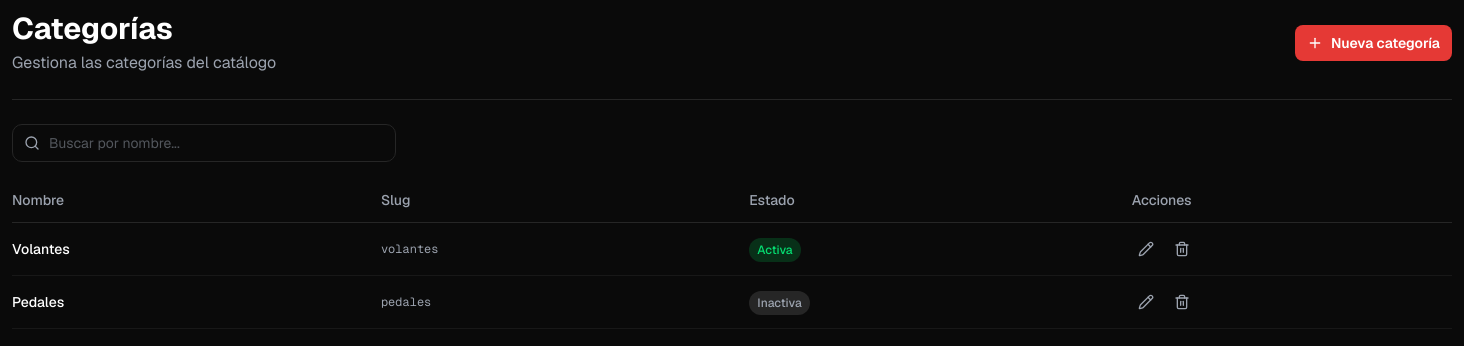
Test: CategoriesContent › eliminar › al hacer clic en eliminar muestra confirmación inline
Expected: the text "Volantes" is shown, [12,222,381,276]
Click the 1st button titled "Eliminar": point(1182, 249) [1168,235,1196,263]
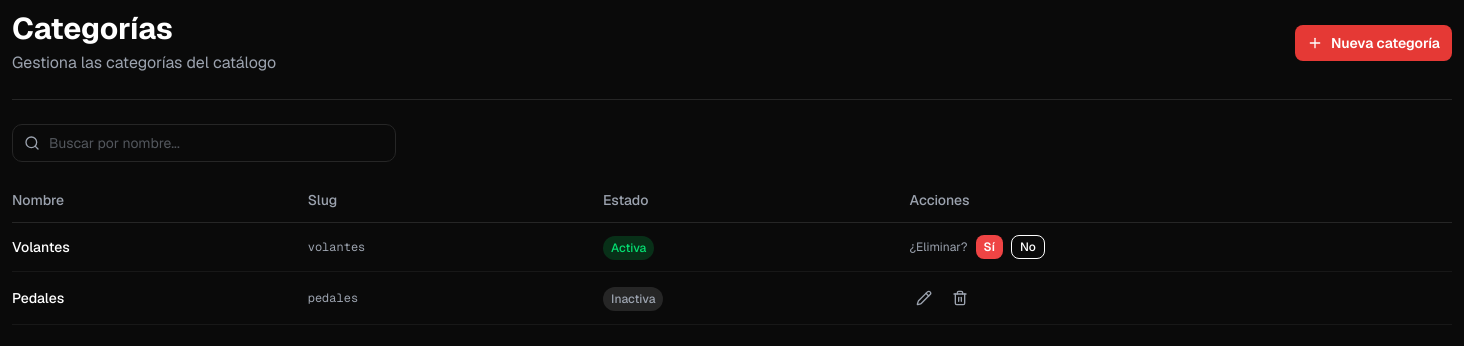
Expected: the text "¿Eliminar?" is shown, [910,239,968,255]
Expected: the button "Sí" is shown, [976,235,1003,259]
Expected: the button "No" is shown, [1011,235,1045,259]
